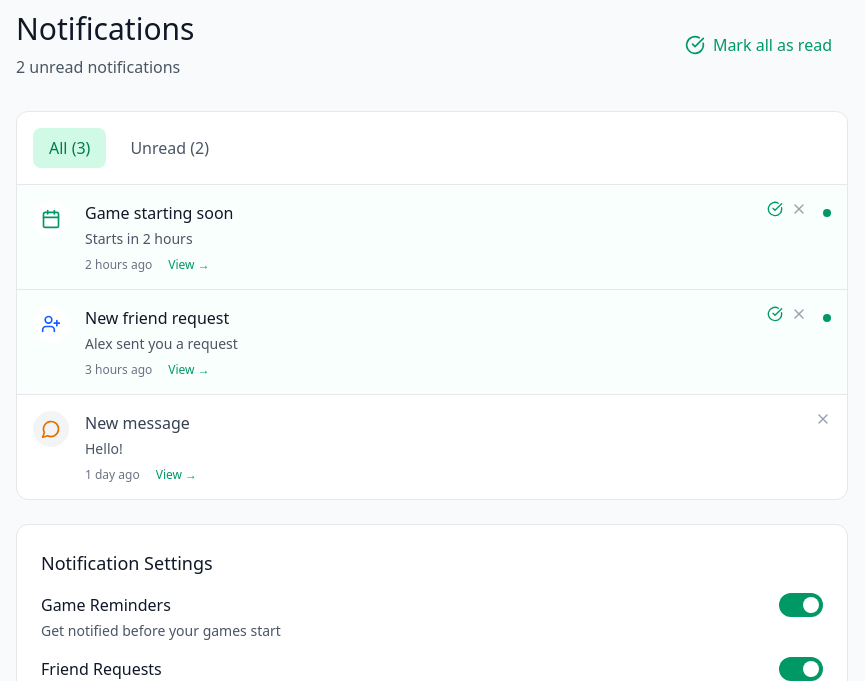
Test: NotificationsPage › dismiss removes item from list and updates counts
Note: Dismiss an unread item
Click the button titled "Dismiss" in the row of "Game starting soon" at (799, 209), box x1=791 y1=201 x2=807 y2=217
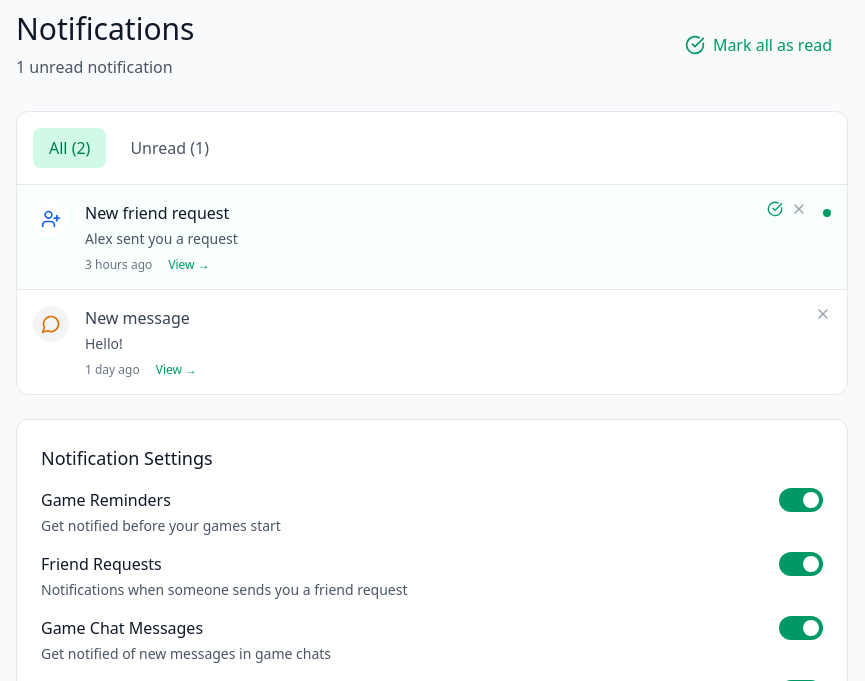
Now the heading "Game starting soon" is gone
Now the button "All (2)" is shown, box x1=33 y1=128 x2=106 y2=168
Now the button "Unread (1)" is shown, box x1=114 y1=128 x2=225 y2=168
